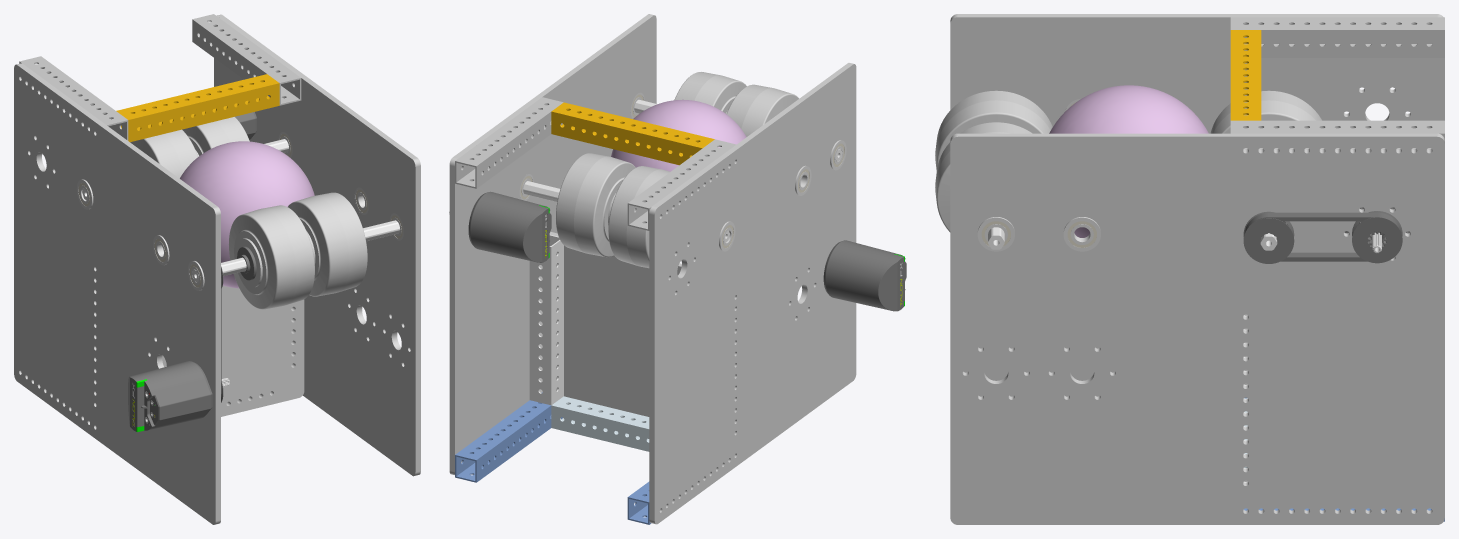
File: launcher.glb
The picture shows the model from 3 angles, left to right: view 1: azimuth 30°, elevation 25°; view 2: azimuth 150°, elevation 25°; view 3: azimuth 270°, elevation 25°; orthographic projection. The views are drawn at different scales.
Parts seen in each view (by area): view 1: Part 12, Part 11, 4" Colson Performa Wheel (2" WD, 1.1875" Bore) (×4), Tube 1"x1"x7" (×3), Part 10, FRC Game Piece, Kraken X60 Brushless Motor, 1/2" ThunderHex (10.25 in); view 2: Part 12, Part 11, Tube 1"x1"x7" (×7), Part 10, 4" Colson Performa Wheel (2" WD, 1.1875" Bore) (×4), Kraken X60 Brushless Motor (×2), FRC Game Piece, 1/2" ThunderHex (10.25 in); view 3: Part 11, Part 12, Tube 1"x1"x7" (×3), 4" Colson Performa Wheel (2" WD, 1.1875" Bore) (×3), FRC Game Piece, 60T 5M 9mm Wide Belt, 24t Custom HTD 5mm Pulley (0.375" Wide, SplineXS Insert), 24t Custom HTD 5mm Pulley (0.375" Wide, *0.505" Hex Bore), 1/2" Rounded Hex (13.75mm) ID Bearing (1.125" OD, 0.313" WD, (×2).
Boxes of the visible parts, left/top/right/bottom form: Part 12: left=14, top=63, right=220, bottom=524; Part 11: left=214, top=14, right=420, bottom=476; 4" Colson Performa Wheel (2" WD, 1.1875" Bore) (×4): left=130, top=117, right=367, bottom=309; Tube 1"x1"x7" (×3): left=19, top=14, right=301, bottom=142; Part 10: left=162, top=285, right=304, bottom=416; FRC Game Piece: left=180, top=141, right=314, bottom=288; Kraken X60 Brushless Motor: left=128, top=361, right=230, bottom=431; 1/2" ThunderHex (10.25 in): left=192, top=220, right=400, bottom=282; Part 12: left=649, top=63, right=856, bottom=524; Part 11: left=449, top=14, right=656, bottom=474; Tube 1"x1"x7" (×7): left=455, top=97, right=736, bottom=524; Part 10: left=549, top=231, right=681, bottom=416; 4" Colson Performa Wheel (2" WD, 1.1875" Bore) (×4): left=556, top=72, right=798, bottom=268; Kraken X60 Brushless Motor (×2): left=449, top=191, right=906, bottom=311; FRC Game Piece: left=611, top=99, right=746, bottom=171; 1/2" ThunderHex (10.25 in): left=523, top=181, right=729, bottom=242; Part 11: left=950, top=133, right=1444, bottom=524; Part 12: left=950, top=14, right=1444, bottom=396; Tube 1"x1"x7" (×3): left=1230, top=17, right=1444, bottom=150; 4" Colson Performa Wheel (2" WD, 1.1875" Bore) (×3): left=935, top=90, right=1321, bottom=232; FRC Game Piece: left=1049, top=85, right=1208, bottom=237; 60T 5M 9mm Wide Belt: left=1244, top=212, right=1401, bottom=261; 24t Custom HTD 5mm Pulley (0.375" Wide, SplineXS Insert): left=1352, top=211, right=1402, bottom=263; 24t Custom HTD 5mm Pulley (0.375" Wide, *0.505" Hex Bore): left=1243, top=211, right=1294, bottom=263; 1/2" Rounded Hex (13.75mm) ID Bearing (1.125" OD, 0.313" WD, (×2): left=977, top=217, right=1100, bottom=251.
Bounding box in the file's own units: 0.347 × 0.3556 × 0.4232.
